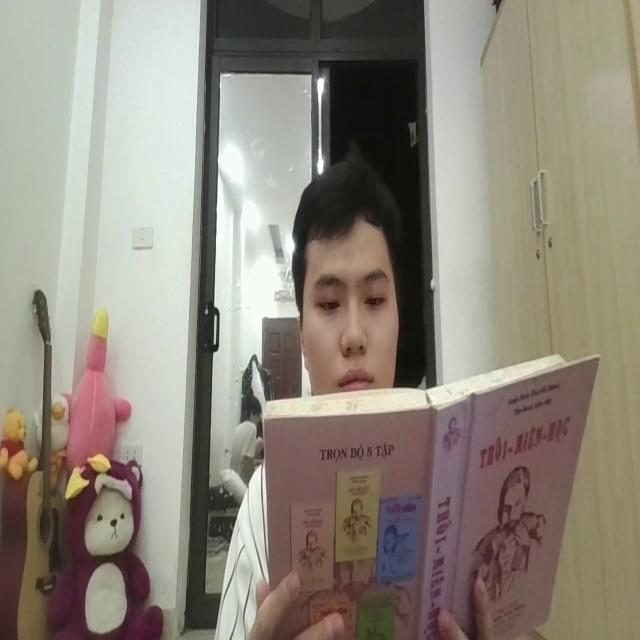book: (251, 352, 600, 640)
student: (284, 151, 404, 408)
